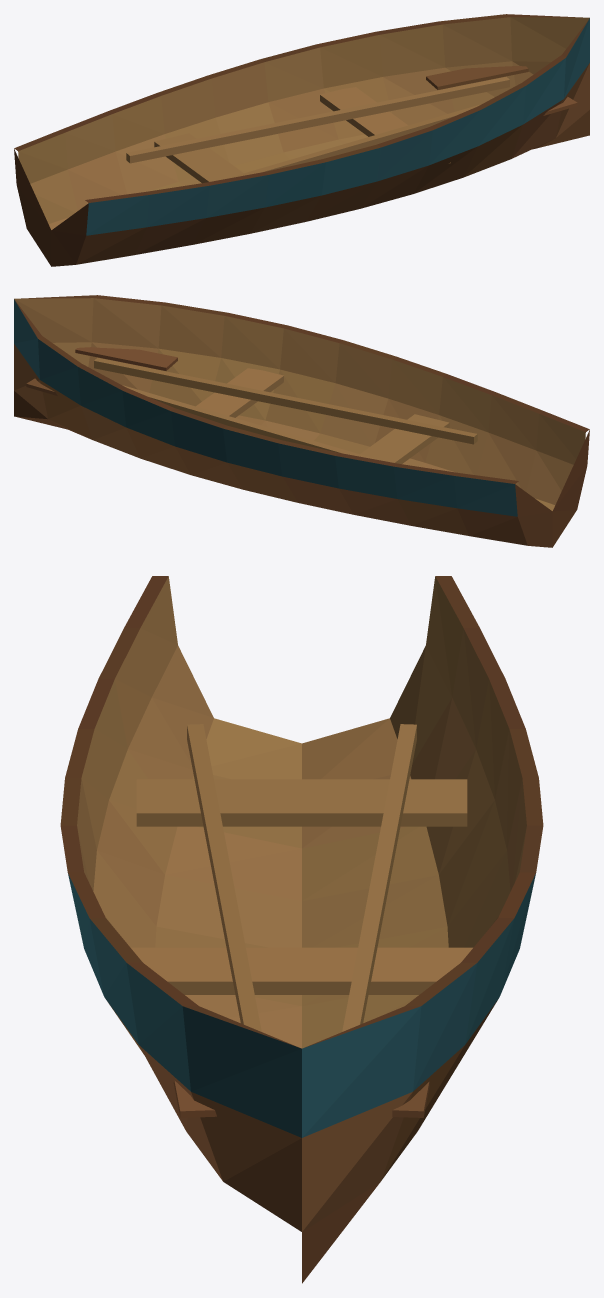
File: rowboat.glb
3 renders of one model, top to bottom at view 1: azimuth 30°, elevation 25°; view 2: azimuth 150°, elevation 25°; view 3: azimuth 270°, elevation 25°, orthographic. The views are drawn at different scales.
Parts seen in each view (by area): view 1: rowboat_solid; view 2: rowboat_solid; view 3: rowboat_solid.
Boxes of the visible parts, bbox=[...] form: rowboat_solid: bbox=[14, 14, 589, 266]; rowboat_solid: bbox=[14, 295, 589, 547]; rowboat_solid: bbox=[60, 576, 543, 1283].
Bounding box in the file's own units: 3.4 × 0.7097 × 1.32.
